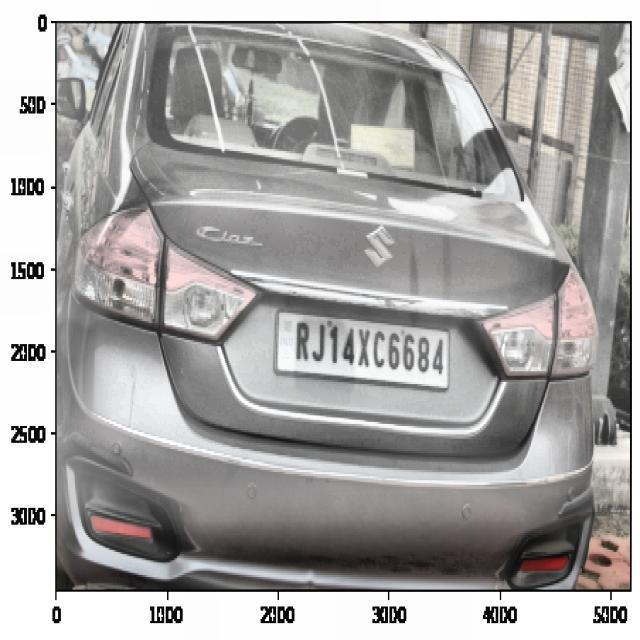license_plate: (287, 316, 448, 384)
